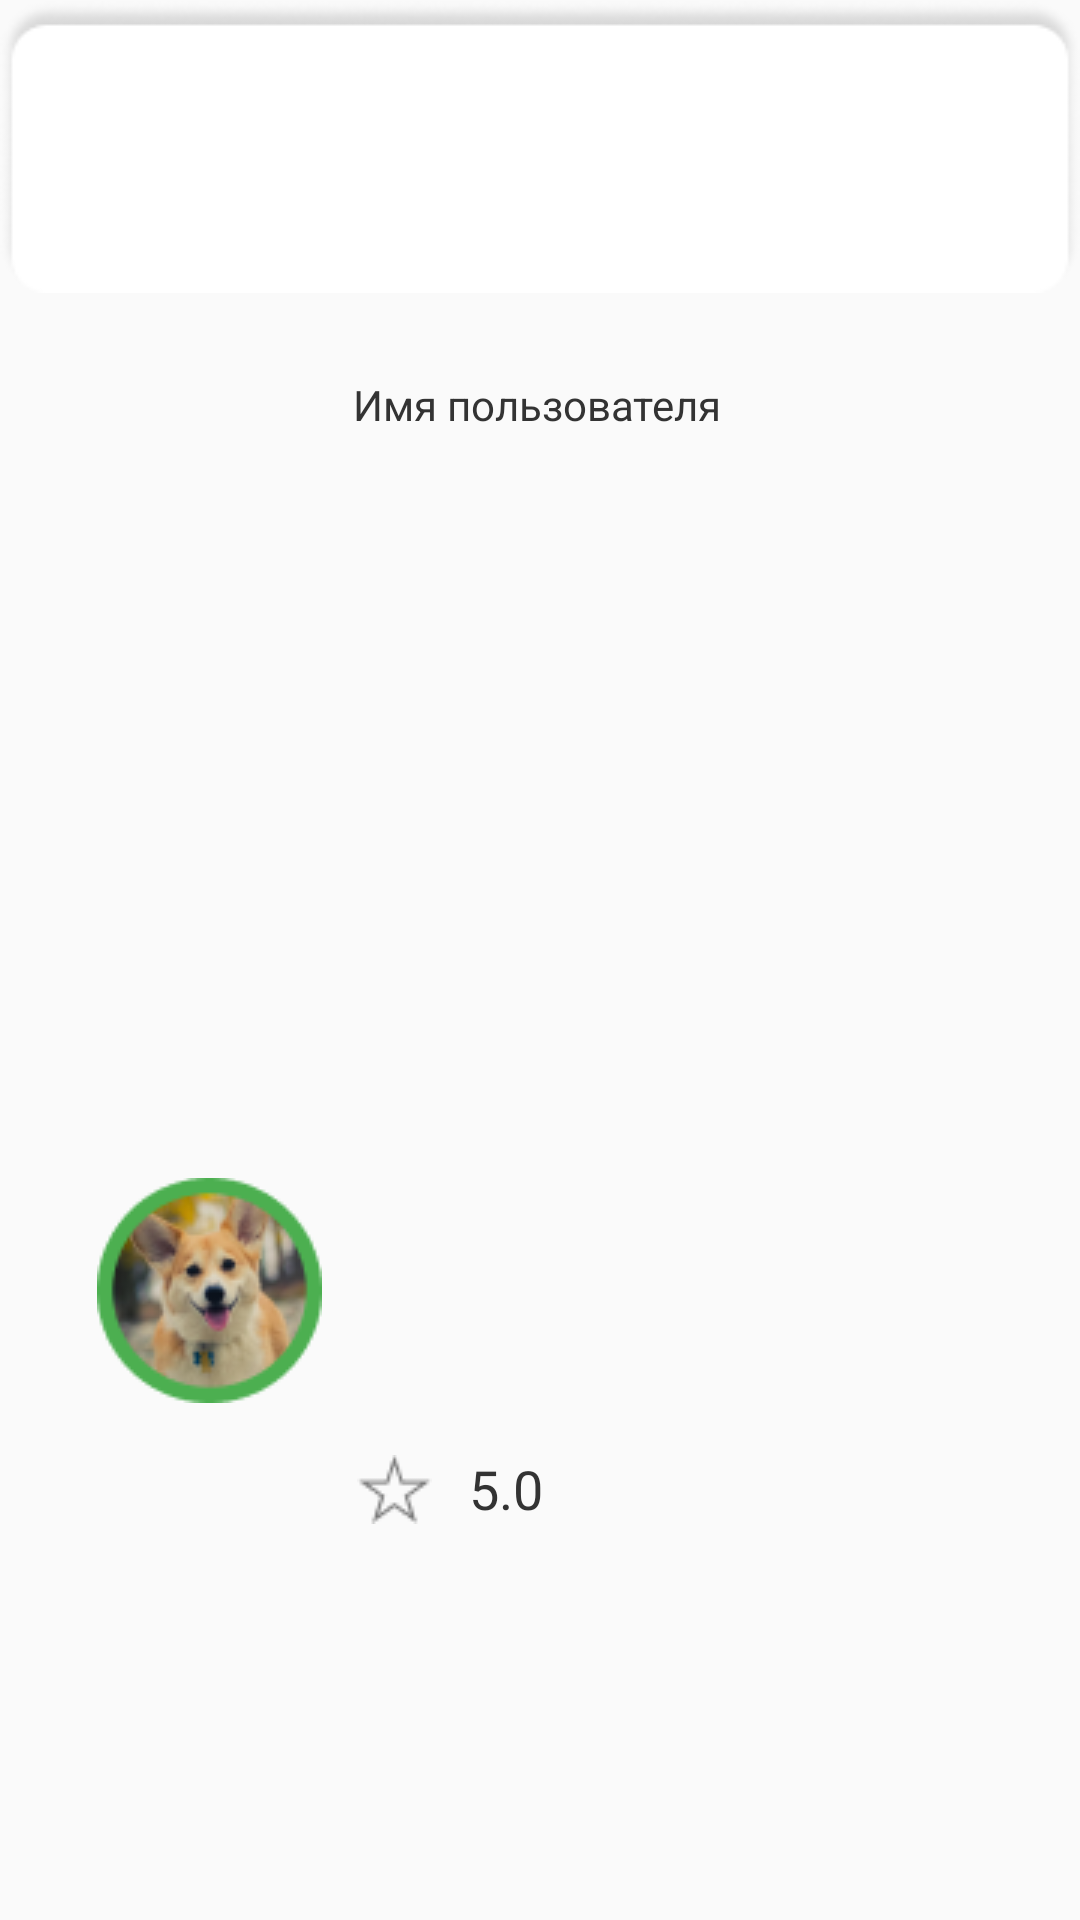

Locate icon controls on the screen. Image size 1080×1920, boxes as BBox(x1, y1, x2, y2).
rating star: BBox(360, 1455, 429, 1524)
